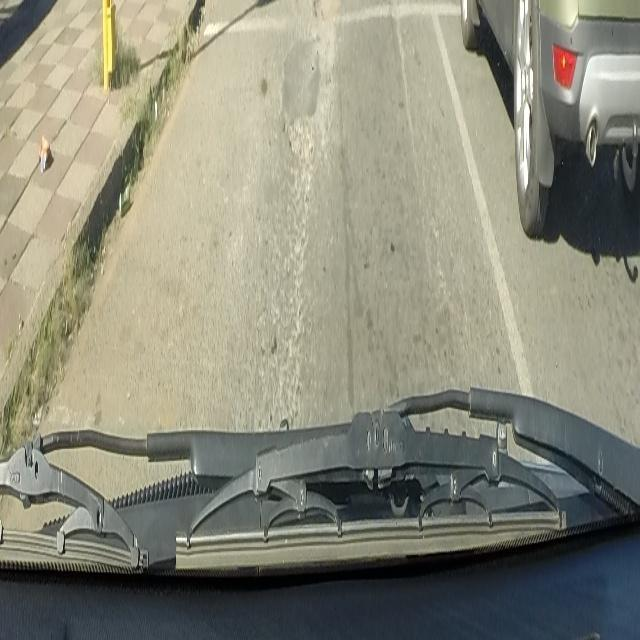pothole: (311, 0, 344, 24)
